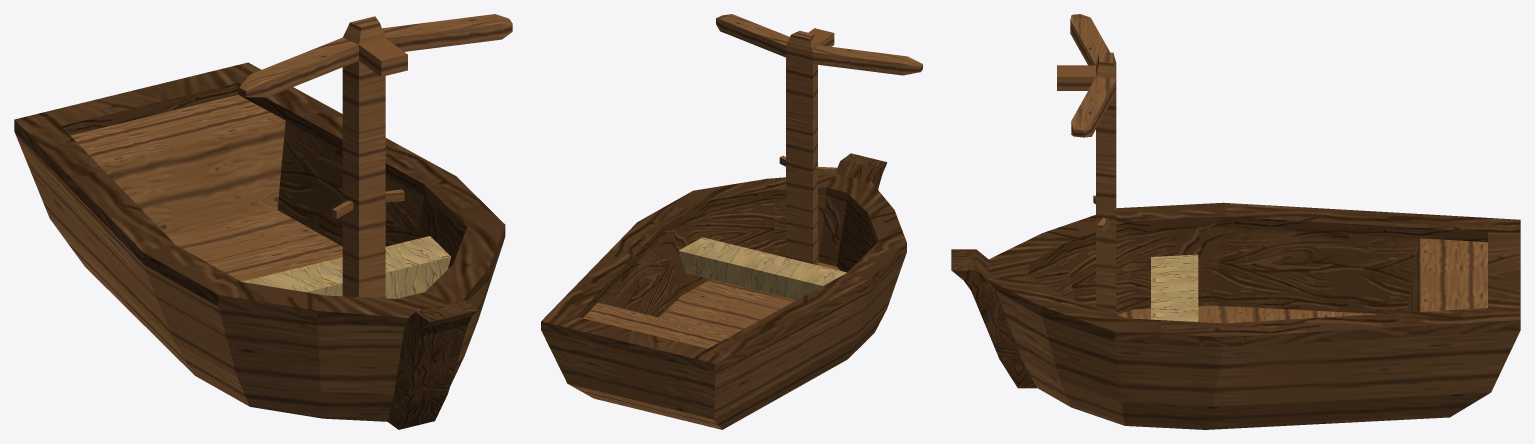
Rendered from Boat.fbx.
3 views of the same model, side by side, from view 1: azimuth 30°, elevation 25°; view 2: azimuth 150°, elevation 25°; view 3: azimuth 270°, elevation 25° (orthographic). The views are drawn at different scales.
Visible parts, largest first — view 1: barco; view 2: barco; view 3: barco.
Boxes of the visible parts, x1,y1,x2,y2 form: barco: [14, 14, 512, 429]; barco: [541, 14, 922, 429]; barco: [951, 14, 1520, 429].
Size of the model in its own units: 582 by 651 by 1042.
